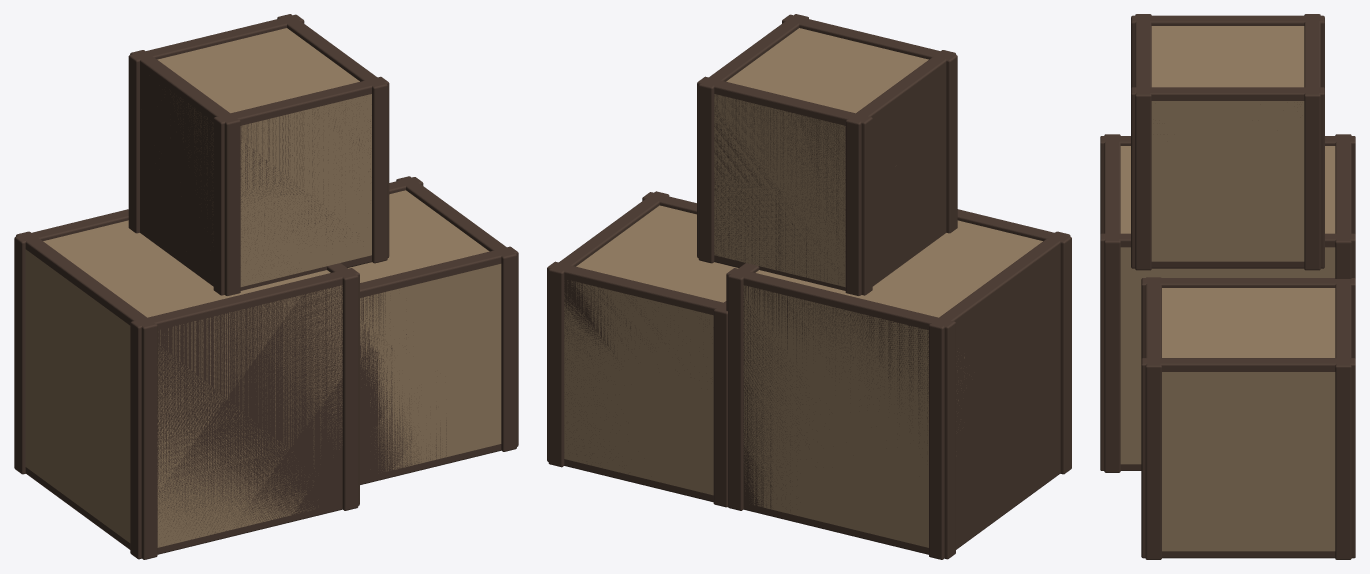
The model's file is crate_stacked.glb.
The picture shows the model from 3 angles, left to right: view 1: azimuth 30°, elevation 25°; view 2: azimuth 150°, elevation 25°; view 3: azimuth 270°, elevation 25°; orthographic projection.
Visible parts, largest first — view 1: GD_crate_stacked__m0, GD_crate_stacked__m1; view 2: GD_crate_stacked__m0, GD_crate_stacked__m1; view 3: GD_crate_stacked__m0, GD_crate_stacked__m1.
Part boxes in pixels (x1,y1,x2,y2): GD_crate_stacked__m0: (25,28,501,547); GD_crate_stacked__m1: (14,14,518,559); GD_crate_stacked__m0: (564,28,1042,547); GD_crate_stacked__m1: (547,14,1071,559); GD_crate_stacked__m0: (1120,26,1335,551); GD_crate_stacked__m1: (1100,14,1355,559).
Size of the model in its own units: 1.12 by 1.07 by 0.62.
